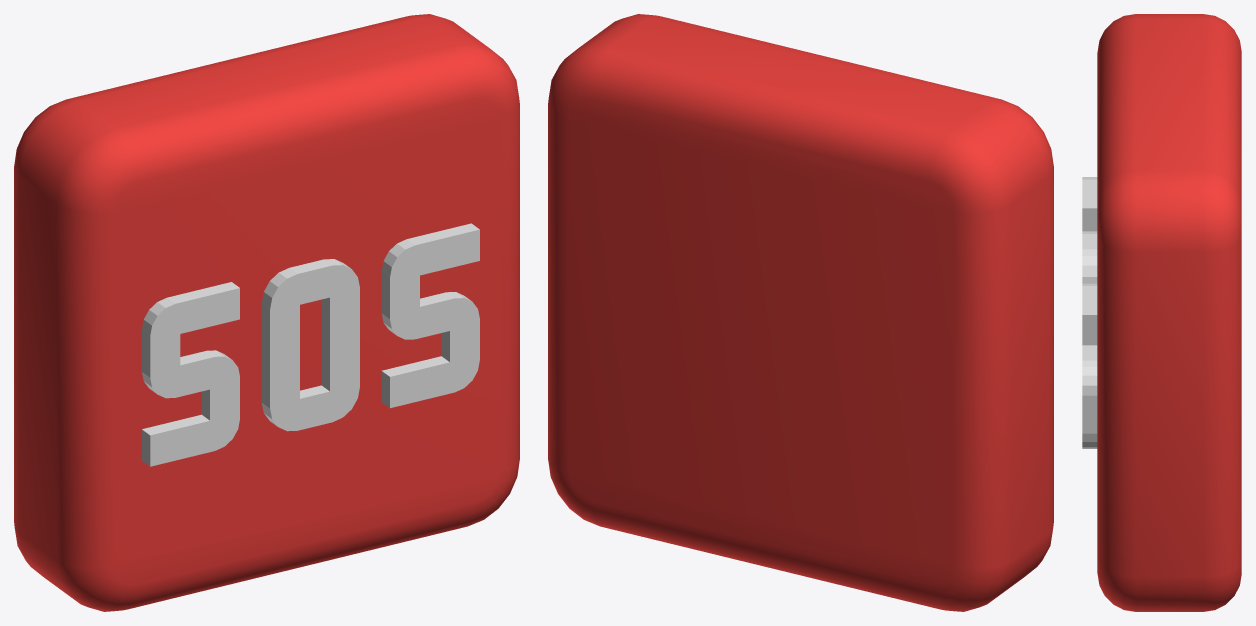
Rendered from sos_button.glb.
3 renders of one model, left to right at view 1: azimuth 30°, elevation 25°; view 2: azimuth 150°, elevation 25°; view 3: azimuth 270°, elevation 25°, orthographic. The views are drawn at different scales.
Parts seen in each view (by area): view 1: Cube.6648, Plane.367; view 2: Cube.6648; view 3: Cube.6648, Plane.367.
Boxes of the visible parts, x1=… form: Cube.6648: x1=14, y1=14, x2=519, y2=611; Plane.367: x1=141, y1=223, x2=479, y2=466; Cube.6648: x1=548, y1=14, x2=1053, y2=611; Cube.6648: x1=1097, y1=14, x2=1241, y2=611; Plane.367: x1=1082, y1=177, x2=1097, y2=448.
Size of the model in its own units: 2.2 by 2.2 by 0.73.
1 material, 1 textured.
